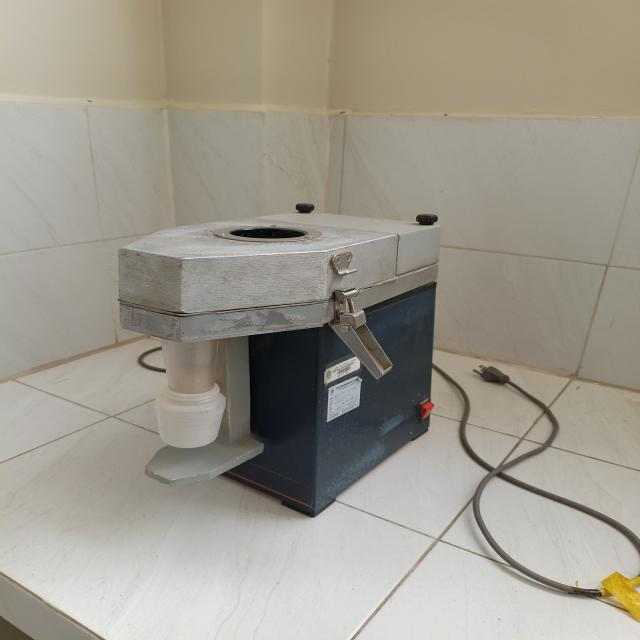Molino Ciclonico de Muestras Bromatologicas: (119, 204, 439, 516)
